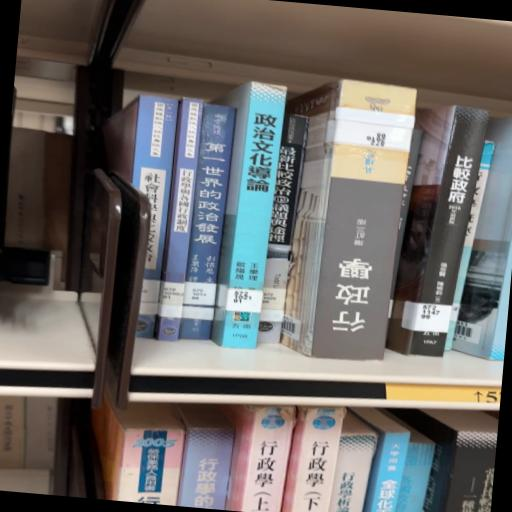reverse: (281, 80, 416, 360)
